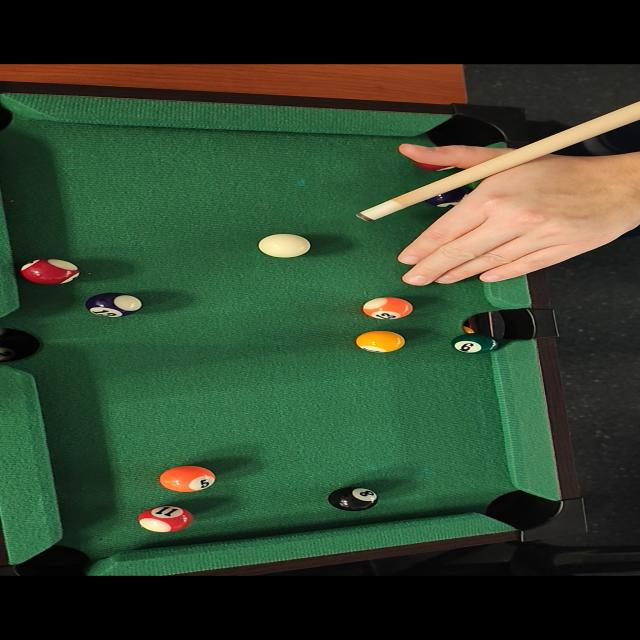cue ball: (250, 232, 318, 261)
other: (14, 256, 87, 284), (80, 292, 154, 318), (156, 462, 220, 492), (140, 504, 197, 534), (354, 296, 422, 321), (330, 484, 384, 513), (353, 328, 408, 352), (448, 332, 502, 356)
